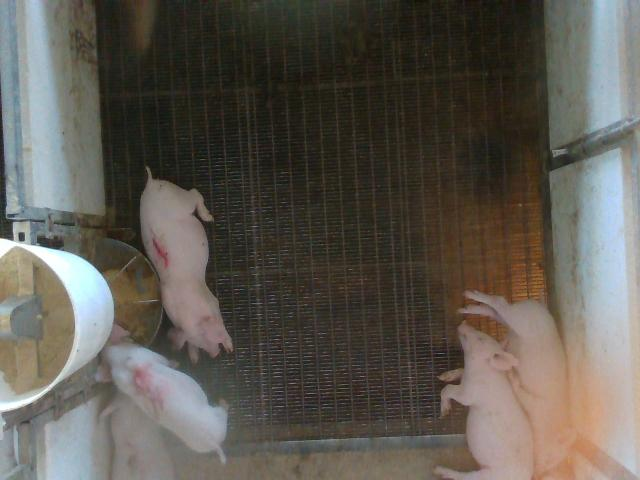pig-1: (140, 168, 232, 362)
pig-3: (102, 392, 174, 479)
pig-5: (96, 324, 226, 463)
